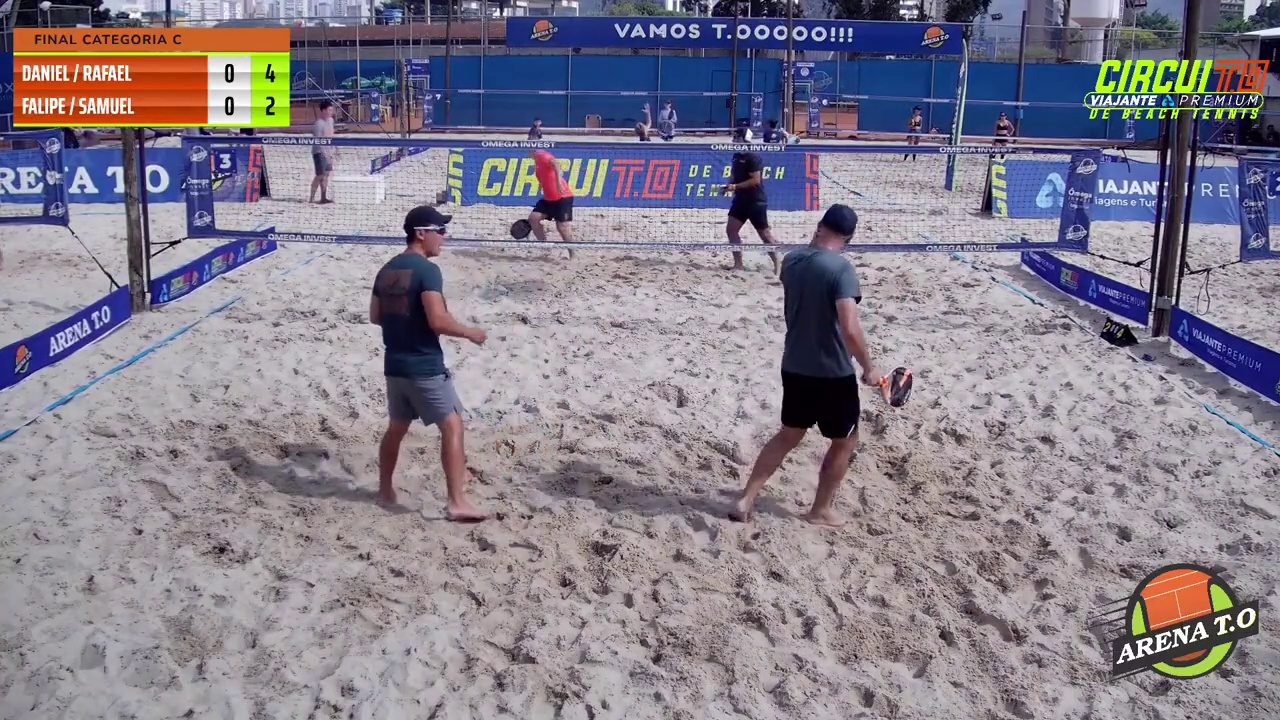court_line: (548, 0, 667, 471), (642, 0, 786, 373)
